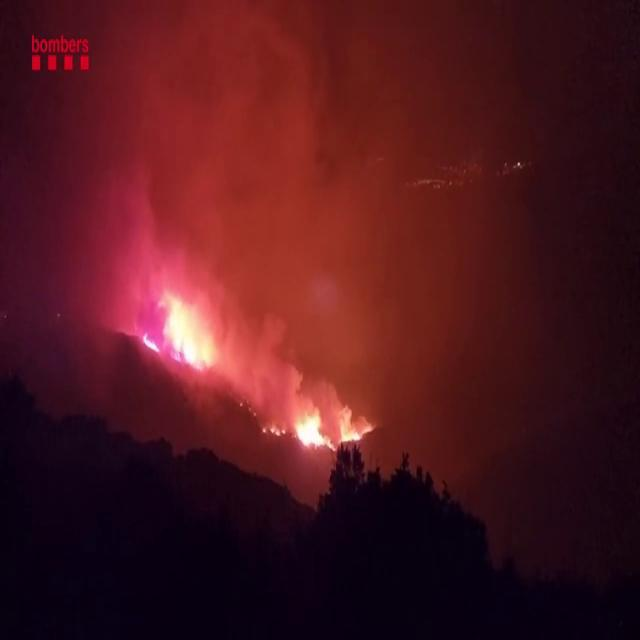Fire: (141, 276, 223, 378), (288, 390, 356, 460)
Smoke: (21, 0, 584, 452)
